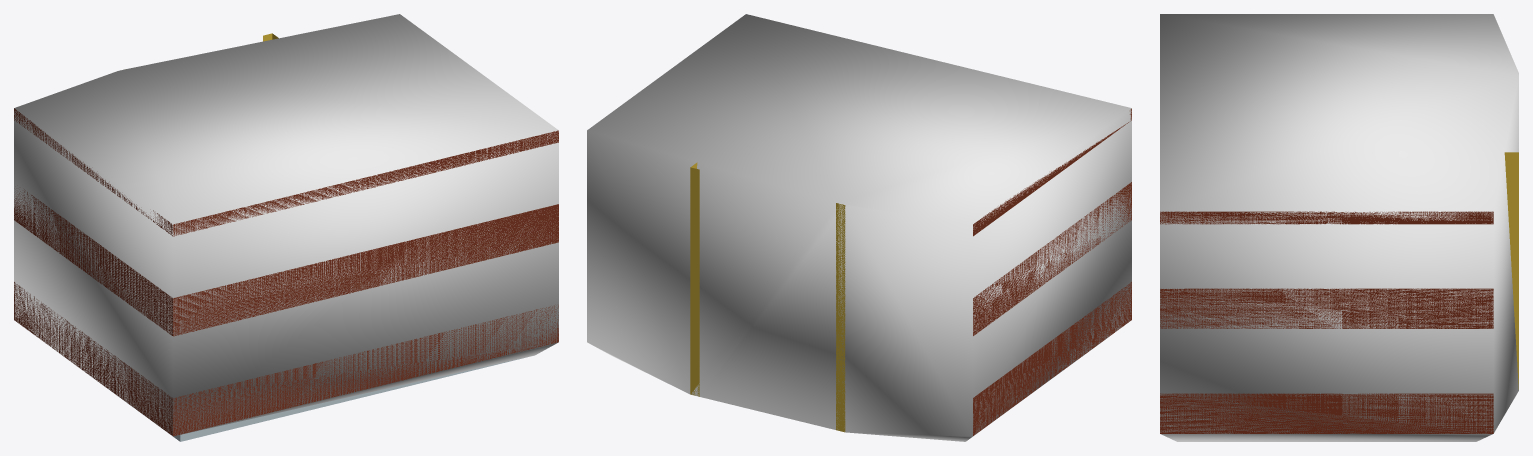
3 views of the same model, side by side, from view 1: azimuth 30°, elevation 25°; view 2: azimuth 150°, elevation 25°; view 3: azimuth 270°, elevation 25° (orthographic). The views are drawn at different scales.
Parts seen in each view (by area): view 1: struct_city_block_low_tier1_b_01_col, struct_city_block_low_tier1_b_01; view 2: struct_city_block_low_tier1_b_01_col, struct_city_block_low_tier1_b_01; view 3: struct_city_block_low_tier1_b_01_col, struct_city_block_low_tier1_b_01.
Boxes of the visible parts, x1,y1,x2,y2 form: struct_city_block_low_tier1_b_01_col: [14, 14, 558, 435]; struct_city_block_low_tier1_b_01: [14, 33, 558, 441]; struct_city_block_low_tier1_b_01_col: [587, 14, 1131, 441]; struct_city_block_low_tier1_b_01: [690, 108, 1131, 435]; struct_city_block_low_tier1_b_01_col: [1160, 14, 1518, 441]; struct_city_block_low_tier1_b_01: [1160, 152, 1518, 433].
Size of the model in its own units: 10.14 by 5.71 by 7.78.
1 material, 1 textured.
